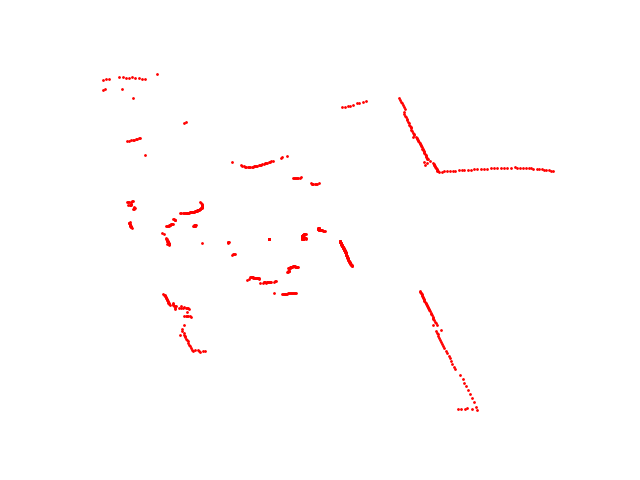person: (300, 224, 329, 244), (290, 175, 323, 189)
